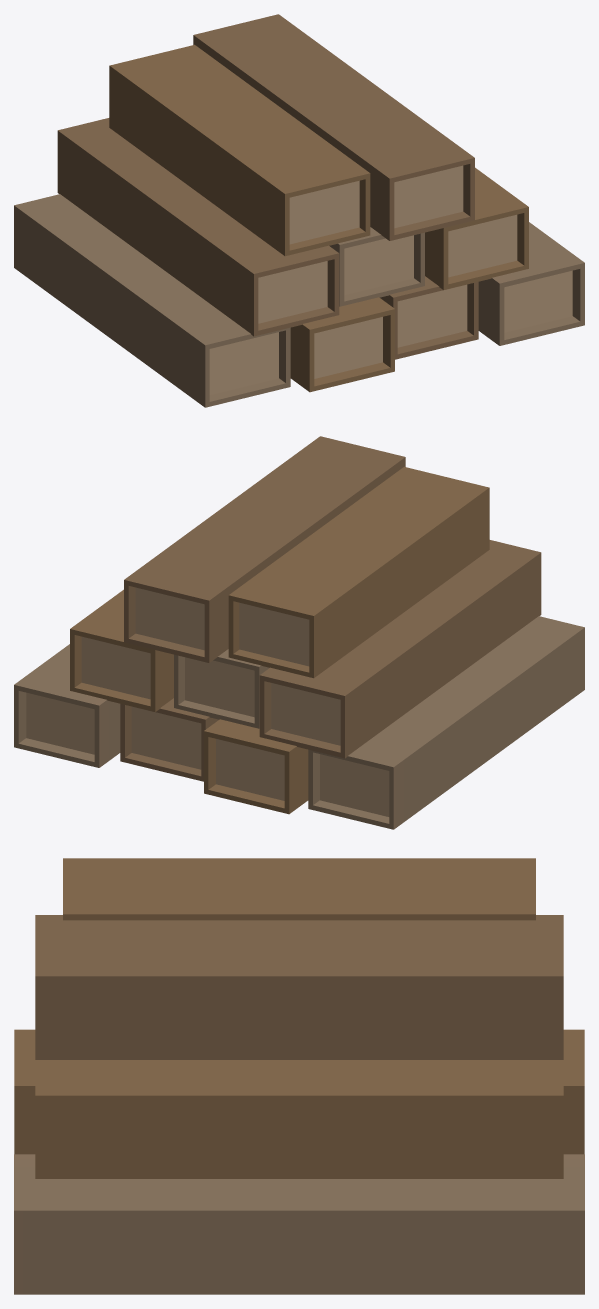
File: Woods.fbx
3 views of the same model, one above another, from view 1: azimuth 30°, elevation 25°; view 2: azimuth 150°, elevation 25°; view 3: azimuth 270°, elevation 25° (orthographic). The views are drawn at different scales.
Parts seen in each view (by area): view 1: Woods; view 2: Woods; view 3: Woods.
Boxes of the visible parts, x1,y1,x2,y2 form: Woods: (14,14,584,407); Woods: (14,436,584,829); Woods: (14,858,584,1294).
Size of the model in its own units: 31.41 by 15.17 by 31.24.
1 material, 1 textured.
